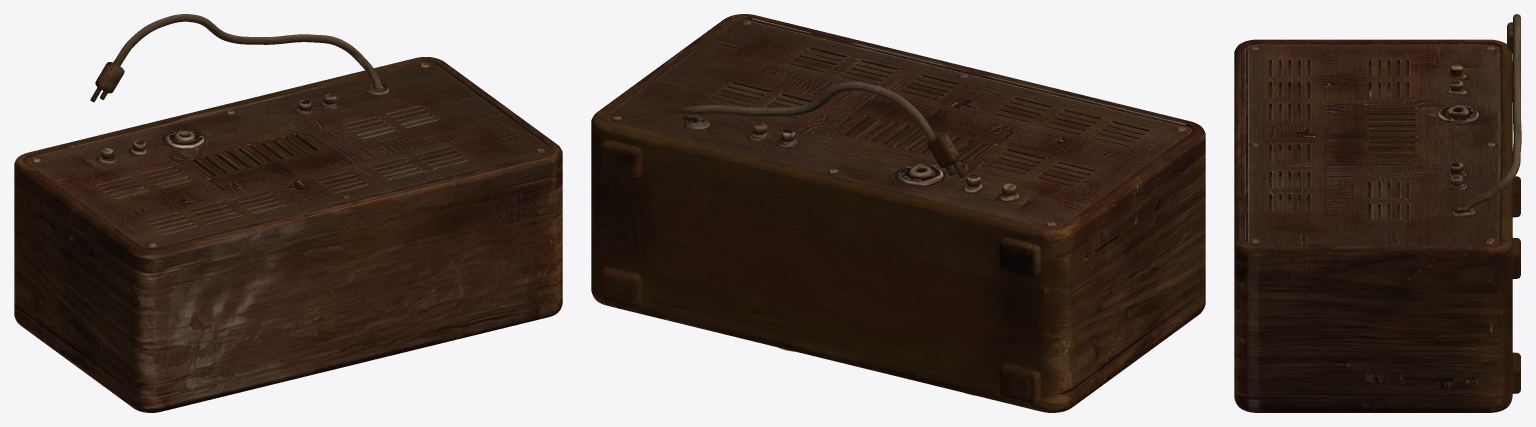
File: vintage60.glb
3 renders of one model, left to right at view 1: azimuth 30°, elevation 25°; view 2: azimuth 150°, elevation 25°; view 3: azimuth 270°, elevation 25°, orthographic. The views are drawn at different scales.
Visible parts, largest first — view 1: Vintage60; view 2: Vintage60; view 3: Vintage60.
Boxes of the visible parts, bbox=[...] form: Vintage60: bbox=[14, 14, 562, 412]; Vintage60: bbox=[591, 14, 1205, 412]; Vintage60: bbox=[1234, 14, 1521, 412].
Bounding box in the file's own units: 0.0191 × 0.0119 × 0.0109.
1 material, 1 textured.
